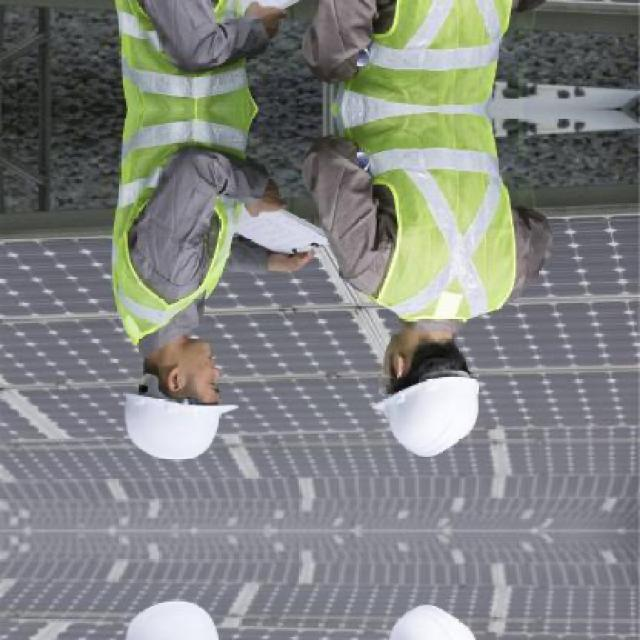con casco: (337, 260, 516, 470), (92, 310, 244, 472)
